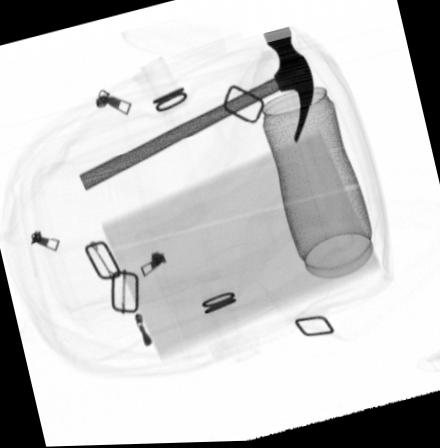Hammer: (77, 28, 315, 192)
